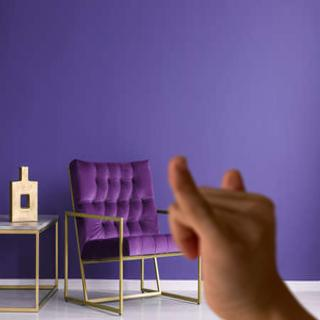HAVE: (149, 149, 299, 320)
